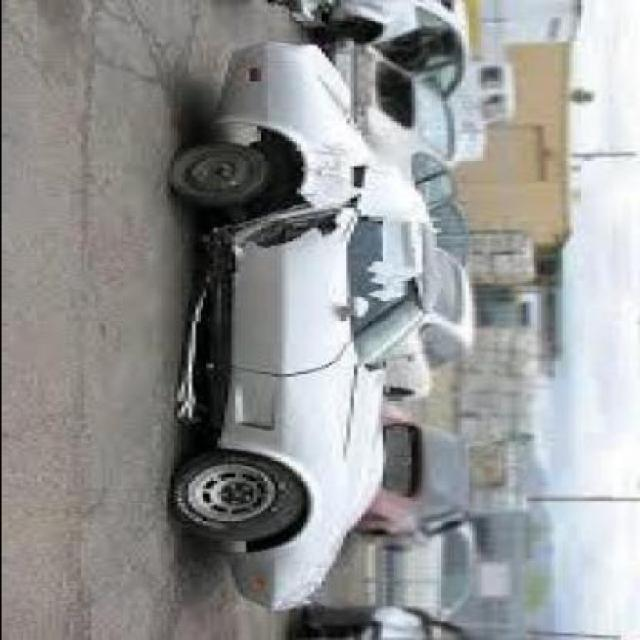damage: (203, 140, 426, 262)
